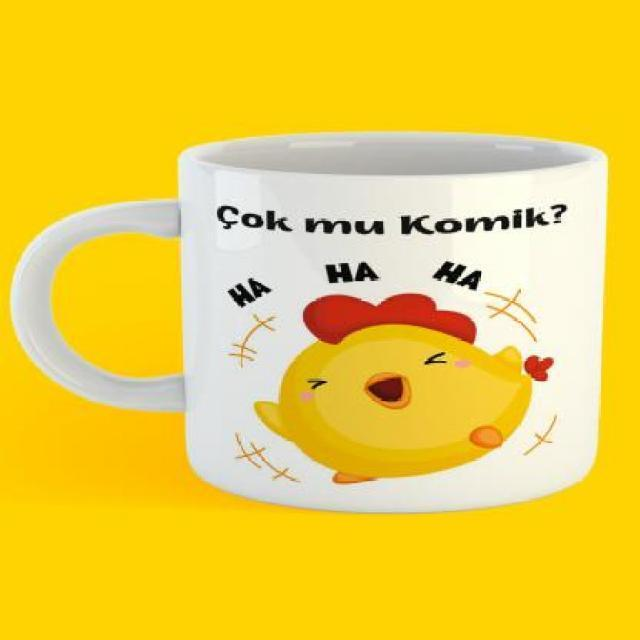taza: (9, 132, 608, 514)
